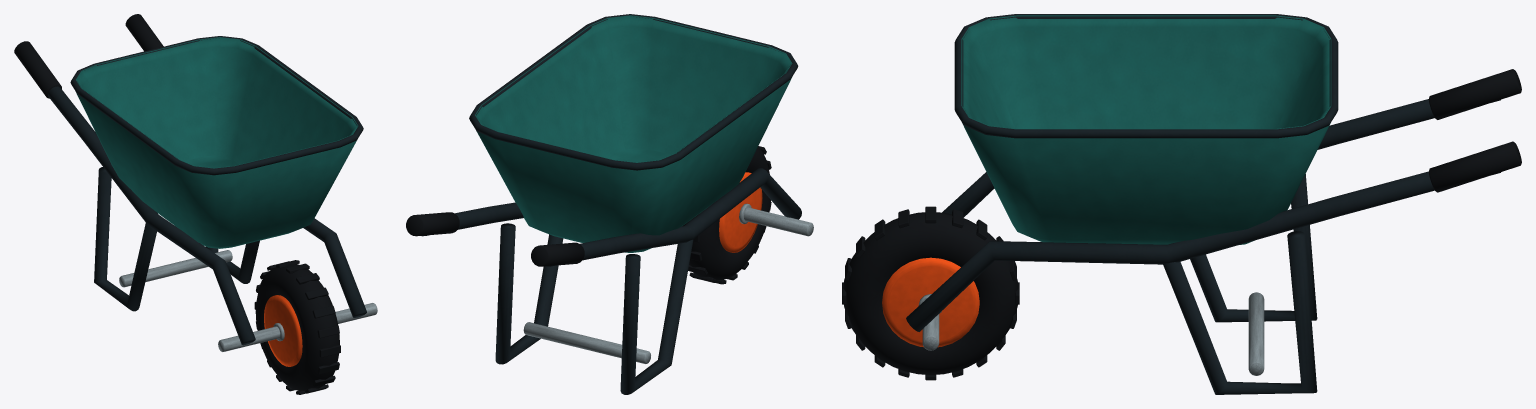
Rendered from CSE_Wheelbarrow.fbx.
The picture shows the model from 3 angles, left to right: view 1: azimuth 30°, elevation 25°; view 2: azimuth 150°, elevation 25°; view 3: azimuth 270°, elevation 25°; orthographic projection. The views are drawn at different scales.
Parts seen in each view (by area): view 1: CSE_Wheelbarrow; view 2: CSE_Wheelbarrow; view 3: CSE_Wheelbarrow.
Part boxes in pixels (box(x1,y1,x2,y2)): CSE_Wheelbarrow: box(14, 14, 377, 394); CSE_Wheelbarrow: box(406, 14, 813, 394); CSE_Wheelbarrow: box(842, 14, 1521, 394).
Size of the model in its own units: 64.2 by 75.8 by 155.
